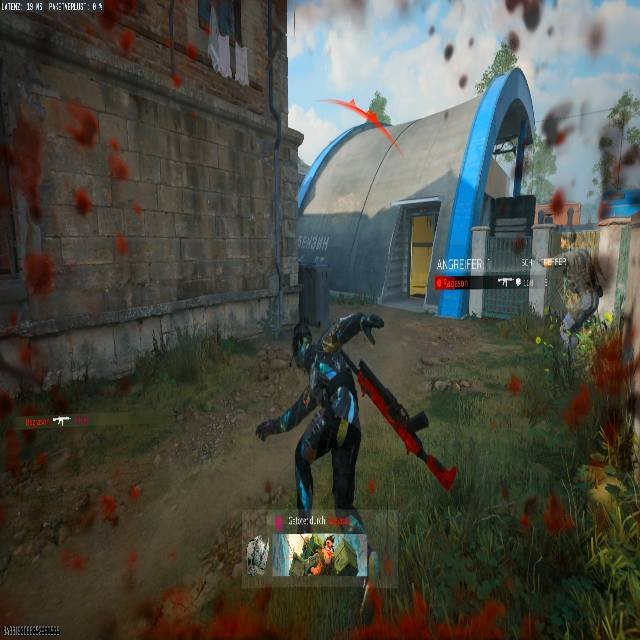head: (321, 311, 383, 354), (319, 330, 341, 353)
player: (283, 322, 366, 574)
